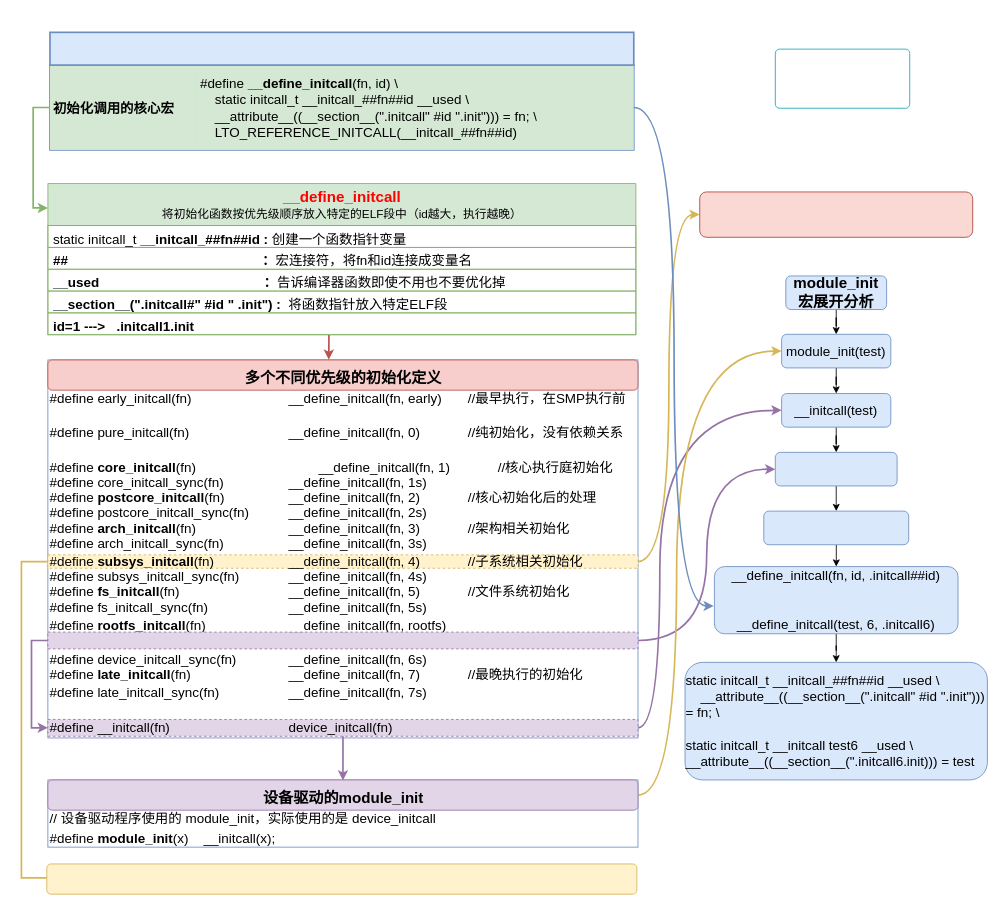
This 1002x923 diagram has some shape labels left out. Each missing label, with the centre of its shape:
"#define device_initcall (fn) __define_initcall(fn, 6) //设备初始化" belongs at (342,640).
"__define_initcall(test, 6)" belongs at (836,527).
"device_initcall(test)" belongs at (835,469).
"Tips： 如果要其他优先级的init，直接使用对应的initcall即可，如sbusys_initcall" belongs at (836,214).
"优先级宏定义分析" belongs at (341,48).
"平台相关驱动框架使用的优先级" belongs at (341,878).
"🌻Make By Dakkk" belongs at (842,78).
